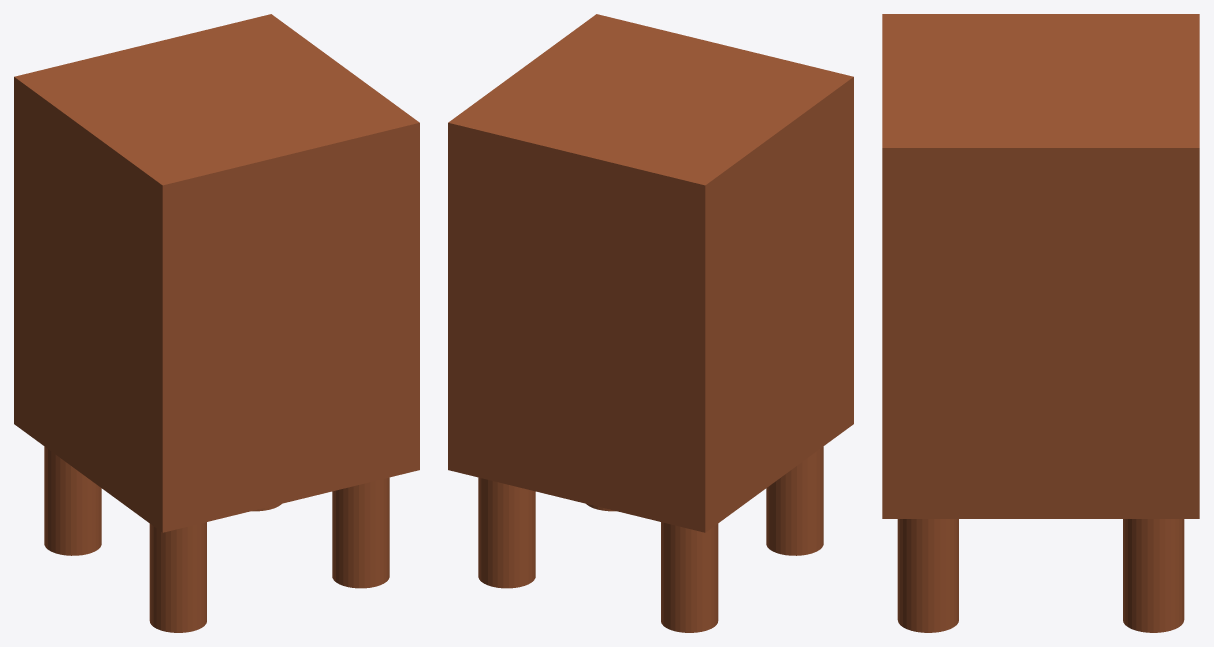
The model's file is SideTable.fbx.
3 renders of one model, left to right at view 1: azimuth 30°, elevation 25°; view 2: azimuth 150°, elevation 25°; view 3: azimuth 270°, elevation 25°, orthographic. The views are drawn at different scales.
Parts seen in each view (by area): view 1: SideDodai00; view 2: SideDodai00; view 3: SideDodai00.
Part boxes in pixels (left/top/right/bottom): SideDodai00: left=14, top=14, right=419, bottom=632; SideDodai00: left=448, top=14, right=853, bottom=632; SideDodai00: left=882, top=14, right=1199, bottom=632.
Bounding box in the file's own units: 3.1 × 5.3 × 3.1.
